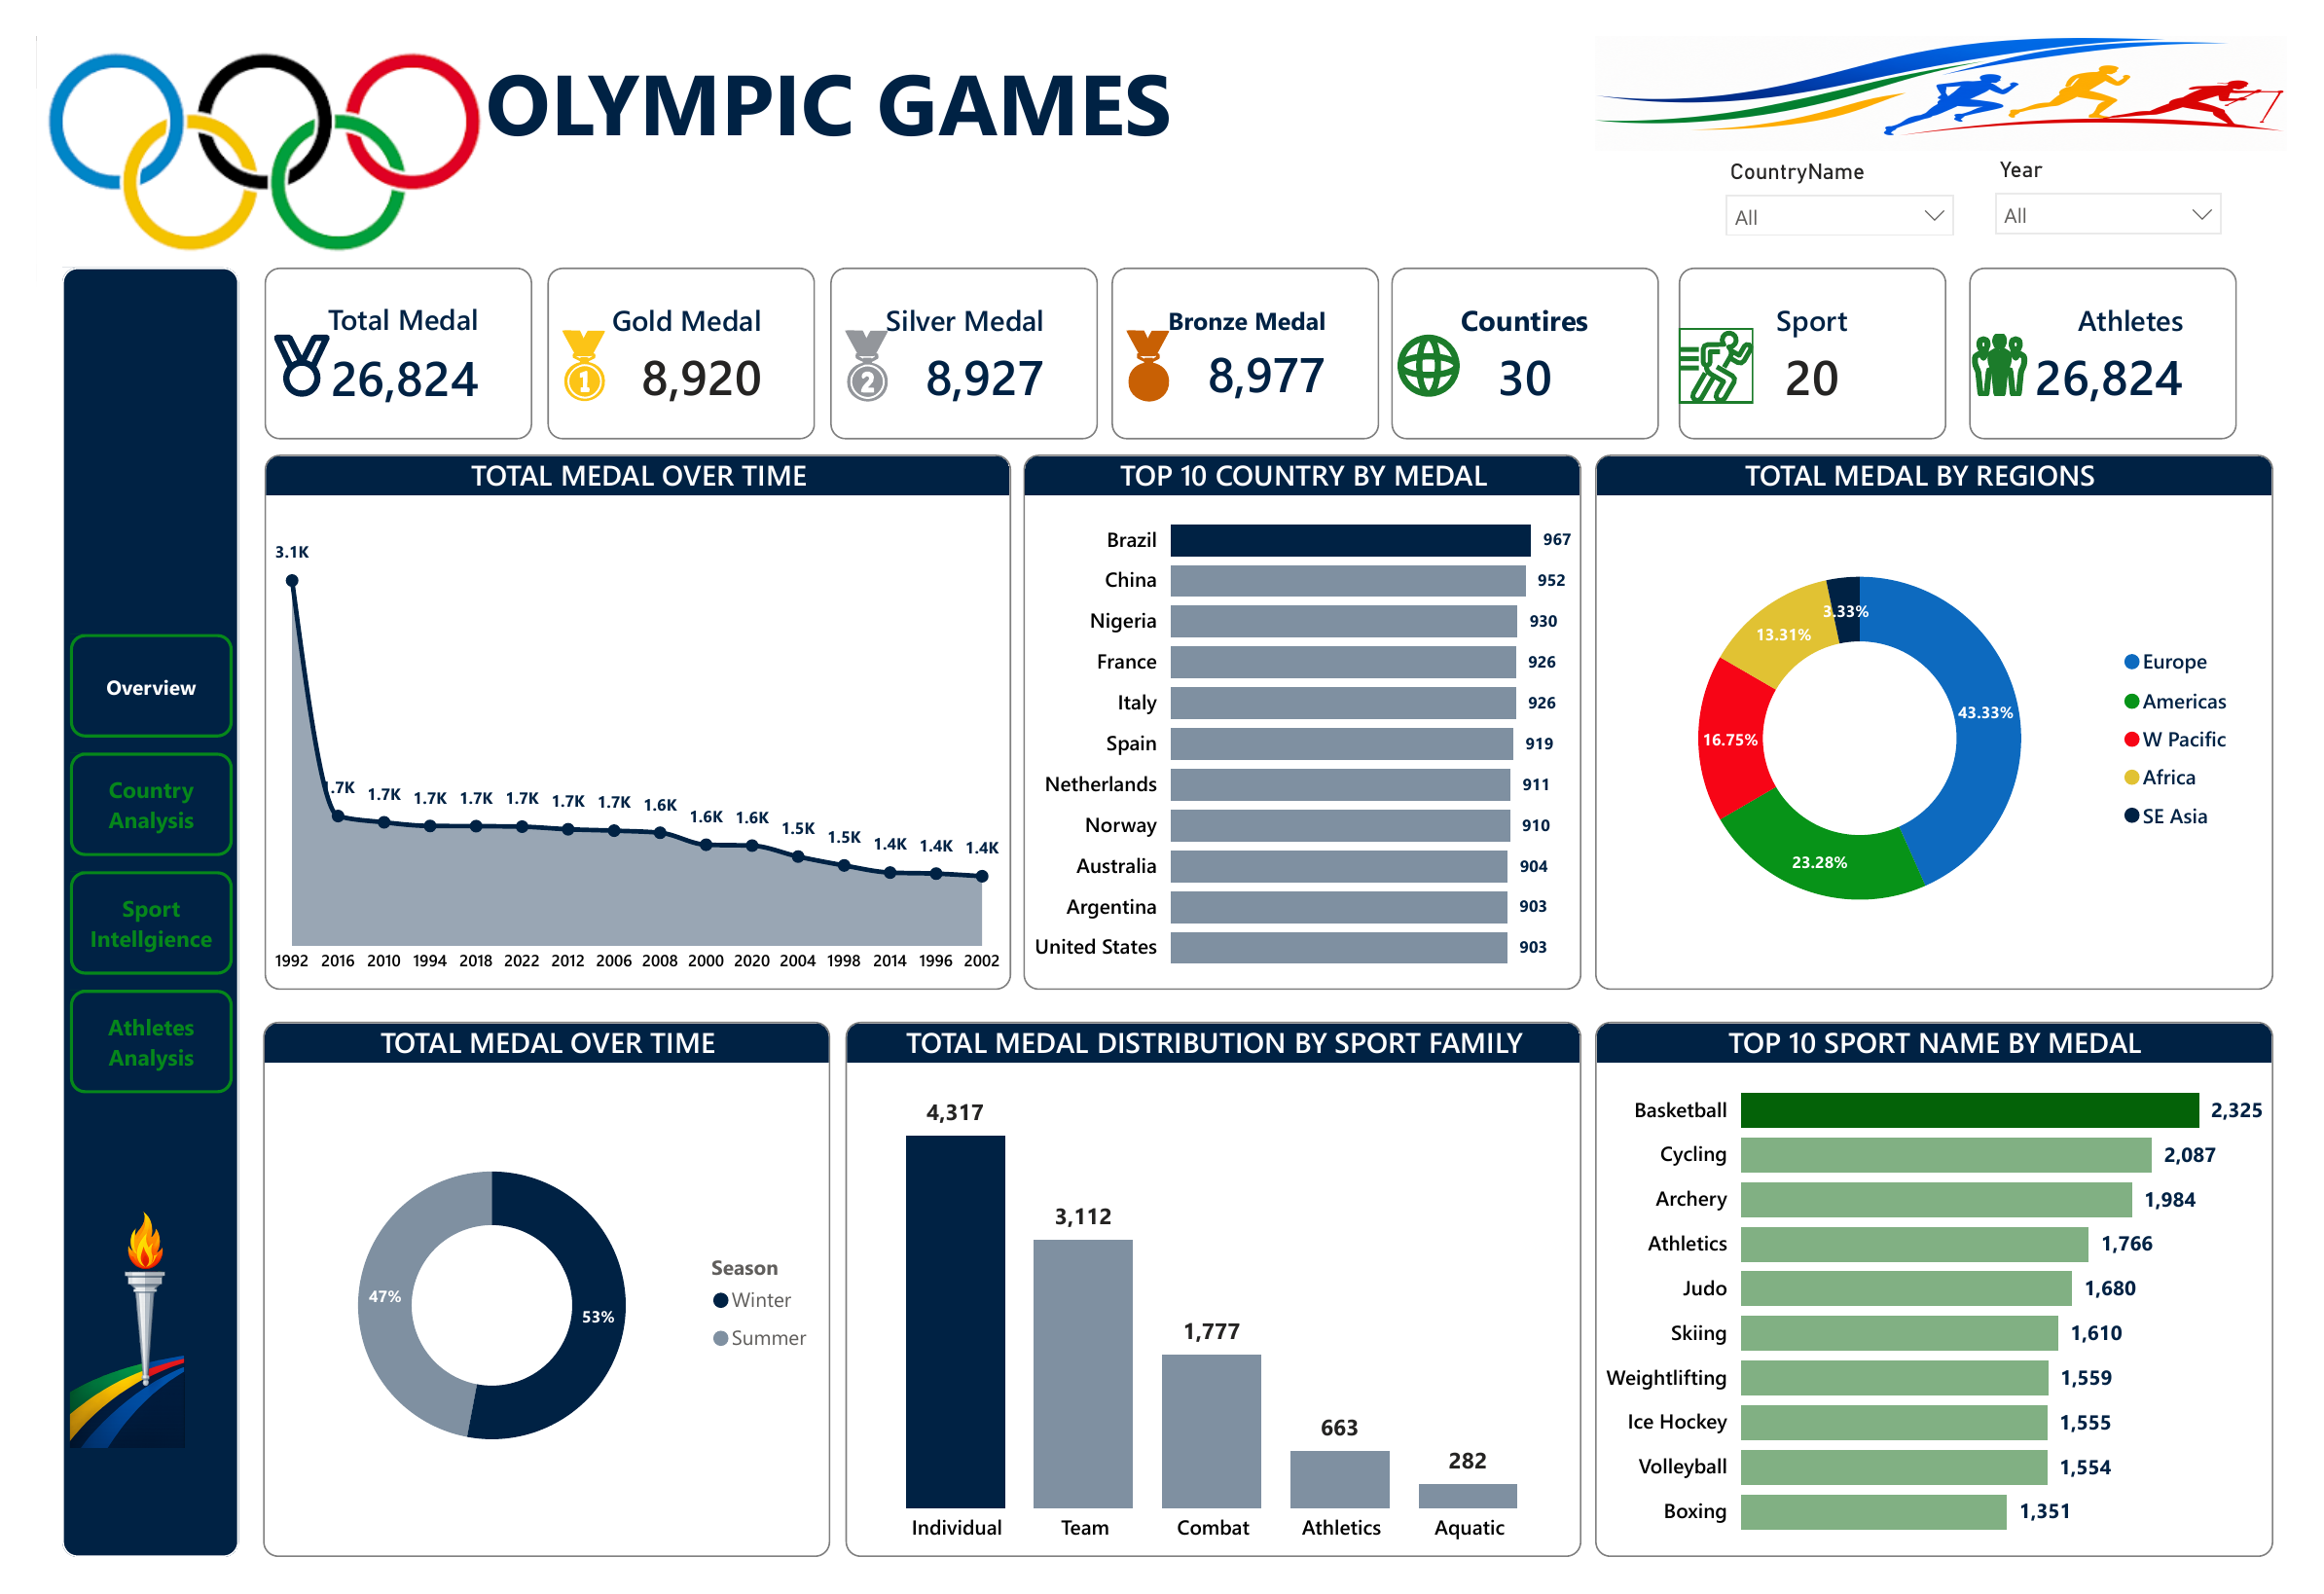

Layout of this report page (visuals, bound fields, positions):
{"tool":"powerbi","page":{"name":"Overview","canvas":[1480,1000],"ordinal":0},"visuals":[{"type":"shape","box":[10,0,1470.1,1000],"z":0},{"type":"cardVisual","title":"TOTAL MEDALS ","fields":{"Data":["DAX.Total Medal"]},"box":[149.8,151.7,176,112.8],"z":0,"group":"g1"},{"type":"cardVisual","title":"TOTAL MEDALS ","fields":{"Data":["DAX.Gold Medal"]},"box":[335.6,151.7,176,112.8],"z":0,"group":"g2"},{"type":"cardVisual","title":"TOTAL MEDALS ","fields":{"Data":["DAX.Silver Medal"]},"box":[522.3,151.7,176,112.8],"z":0,"group":"g3"},{"type":"cardVisual","title":"TOTAL MEDALS ","fields":{"Data":["DAX.Bronze Medals"]},"box":[707.1,151.7,176,112.8],"z":0,"group":"g4"},{"type":"cardVisual","title":"TOTAL MEDALS ","fields":{"Data":["DAX.Countires"]},"box":[890.9,151.7,176,112.8],"z":0,"group":"g5"},{"type":"cardVisual","title":"TOTAL MEDALS ","fields":{"Data":["DAX.Sport"]},"box":[1079.6,151.7,176,112.8],"z":0,"group":"g6"},{"type":"cardVisual","title":"TOTAL MEDALS ","fields":{"Data":["DAX.Count of Athletes"]},"box":[1270.8,151.8,176,112.8],"z":0,"group":"g7"},{"type":"image","box":[0,0,299.6,151.7],"z":1000},{"type":"image","box":[149.8,190.6,48.6,49.6],"z":1000,"group":"g1"},{"type":"image","box":[335.6,190.6,48.6,49.6],"z":1000,"group":"g2"},{"type":"image","box":[522.3,190.6,48.6,49.6],"z":1000,"group":"g3"},{"type":"image","box":[707.1,190.6,48.6,49.6],"z":1000,"group":"g4"},{"type":"image","box":[890.9,190.6,48.6,49.6],"z":1000,"group":"g5"},{"type":"image","box":[1079.6,190.6,48.6,49.6],"z":1000,"group":"g6"},{"type":"image","box":[1271,190.6,39.8,49.8],"z":1000,"group":"g7"},{"type":"shape","box":[17.4,151.7,115.7,848.3],"z":2000},{"type":"image","box":[22.4,695.3,107,304.7],"z":3000},{"type":"textbox","box":[290.8,0,482.4,89.5],"z":4000},{"type":"slicer","fields":{"Values":["DimGames.Year"]},"box":[1277.6,75.3,169.8,67.5],"z":5000},{"type":"group","id":"g1","title":"Group 1","box":[149.8,151.7,176,112.8],"z":6000},{"type":"group","id":"g2","title":"Group 1","box":[335.6,151.7,176,112.8],"z":7000},{"type":"group","id":"g3","title":"Group 1","box":[522.3,151.7,176,112.8],"z":8000},{"type":"group","id":"g4","title":"Group 1","box":[707.1,151.7,176,112.8],"z":9000},{"type":"group","id":"g5","title":"Group 1","box":[890.9,151.7,176,112.8],"z":10000},{"type":"group","id":"g6","title":"Group 1","box":[1079.6,151.7,176,112.8],"z":11000},{"type":"group","id":"g7","title":"Group 1","box":[1270.8,151.8,176,112.8],"z":12000},{"type":"image","box":[1024.5,0,455.5,75.3],"z":13000},{"type":"lineChart","title":"TOTAL MEDAL OVER TIME","fields":{"Category":["DimGames.Year"],"Y":["DAX.Total Medal"]},"box":[150.5,274.9,490,352],"z":14000},{"type":"clusteredBarChart","title":"TOP 10 COUNTRY BY MEDAL","fields":{"Category":["DimNOC.CountryName"],"Y":["DAX.Total Medal"]},"box":[649.3,274.9,366.9,352],"z":15000},{"type":"donutChart","title":"TOTAL MEDAL BY REGIONS","fields":{"Category":["DimNOC.Region"],"Y":["DAX.Total Medal"]},"box":[1024.9,274.9,446.5,352],"z":16000},{"type":"donutChart","title":"TOTAL MEDAL OVER TIME","fields":{"Category":["DimGames.Season"],"Y":["DAX.Total Medal"]},"box":[149.3,648,373.1,352],"z":17000},{"type":"clusteredColumnChart","title":"TOTAL MEDAL DISTRIBUTION BY SPORT FAMILY","fields":{"Category":["DimSport.SportFamily"],"Y":["DAX.Total Medal"]},"box":[532.3,648,483.8,352],"z":18000},{"type":"clusteredBarChart","title":"TOP 10 SPORT NAME  BY MEDAL","fields":{"Category":["DimSport.SportName"],"Y":["DAX.Total Medal"]},"box":[1024.9,648,446.5,352],"z":19000},{"type":"pageNavigator","box":[22.1,393,107,302.6],"z":19001},{"type":"slicer","fields":{"Values":["DimNOC.CountryName"]},"box":[1100.7,75.9,170.4,67.2],"z":19002}]}

Visuals, with their boxes on the page's 1480x1000 design canvas (x1, y1, x2, y2). These are canvas units, not pixel positions in the 2324x1594 screenshot, which may show the page scaled, cropped or inside an application window:
shape: 10, 0, 1480, 1000
"TOTAL MEDALS " cardVisual: 150, 152, 326, 264
"TOTAL MEDALS " cardVisual: 336, 152, 512, 264
"TOTAL MEDALS " cardVisual: 522, 152, 698, 264
"TOTAL MEDALS " cardVisual: 707, 152, 883, 264
"TOTAL MEDALS " cardVisual: 891, 152, 1067, 264
"TOTAL MEDALS " cardVisual: 1080, 152, 1256, 264
"TOTAL MEDALS " cardVisual: 1271, 152, 1447, 265
image: 0, 0, 300, 152
image: 150, 191, 198, 240
image: 336, 191, 384, 240
image: 522, 191, 571, 240
image: 707, 191, 756, 240
image: 891, 191, 940, 240
image: 1080, 191, 1128, 240
image: 1271, 191, 1311, 240
shape: 17, 152, 133, 1000
image: 22, 695, 129, 1000
textbox: 291, 0, 773, 90
slicer - DimGames.Year: 1278, 75, 1447, 143
"Group 1" group: 150, 152, 326, 264
"Group 1" group: 336, 152, 512, 264
"Group 1" group: 522, 152, 698, 264
"Group 1" group: 707, 152, 883, 264
"Group 1" group: 891, 152, 1067, 264
"Group 1" group: 1080, 152, 1256, 264
"Group 1" group: 1271, 152, 1447, 265
image: 1024, 0, 1480, 75
"TOTAL MEDAL OVER TIME" lineChart: 150, 275, 640, 627
"TOP 10 COUNTRY BY MEDAL" clusteredBarChart: 649, 275, 1016, 627
"TOTAL MEDAL BY REGIONS" donutChart: 1025, 275, 1471, 627
"TOTAL MEDAL OVER TIME" donutChart: 149, 648, 522, 1000
"TOTAL MEDAL DISTRIBUTION BY SPORT FAMILY" clusteredColumnChart: 532, 648, 1016, 1000
"TOP 10 SPORT NAME  BY MEDAL" clusteredBarChart: 1025, 648, 1471, 1000
pageNavigator: 22, 393, 129, 696
slicer - DimNOC.CountryName: 1101, 76, 1271, 143
